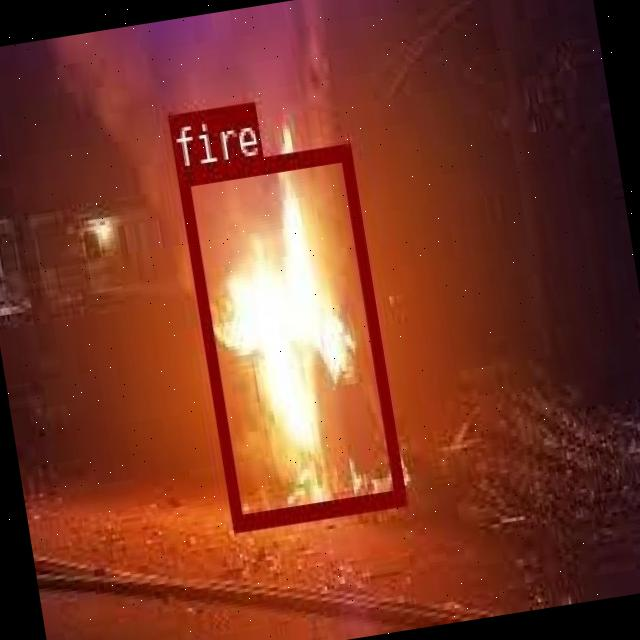fire: (175, 143, 404, 528)
